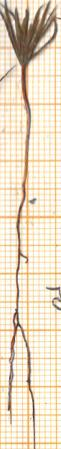flower: (0, 0, 59, 69)
root: (0, 201, 38, 449)
stem: (15, 66, 33, 201)
